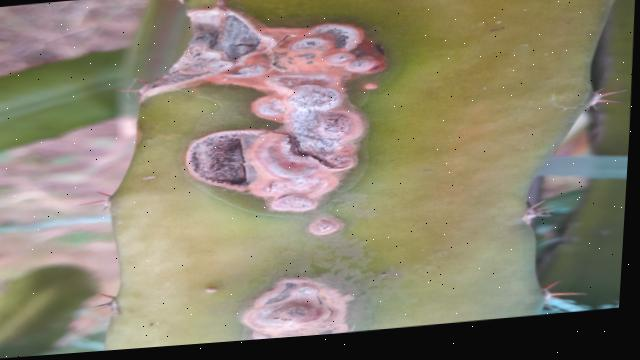stemcanker: (304, 217, 348, 239)
